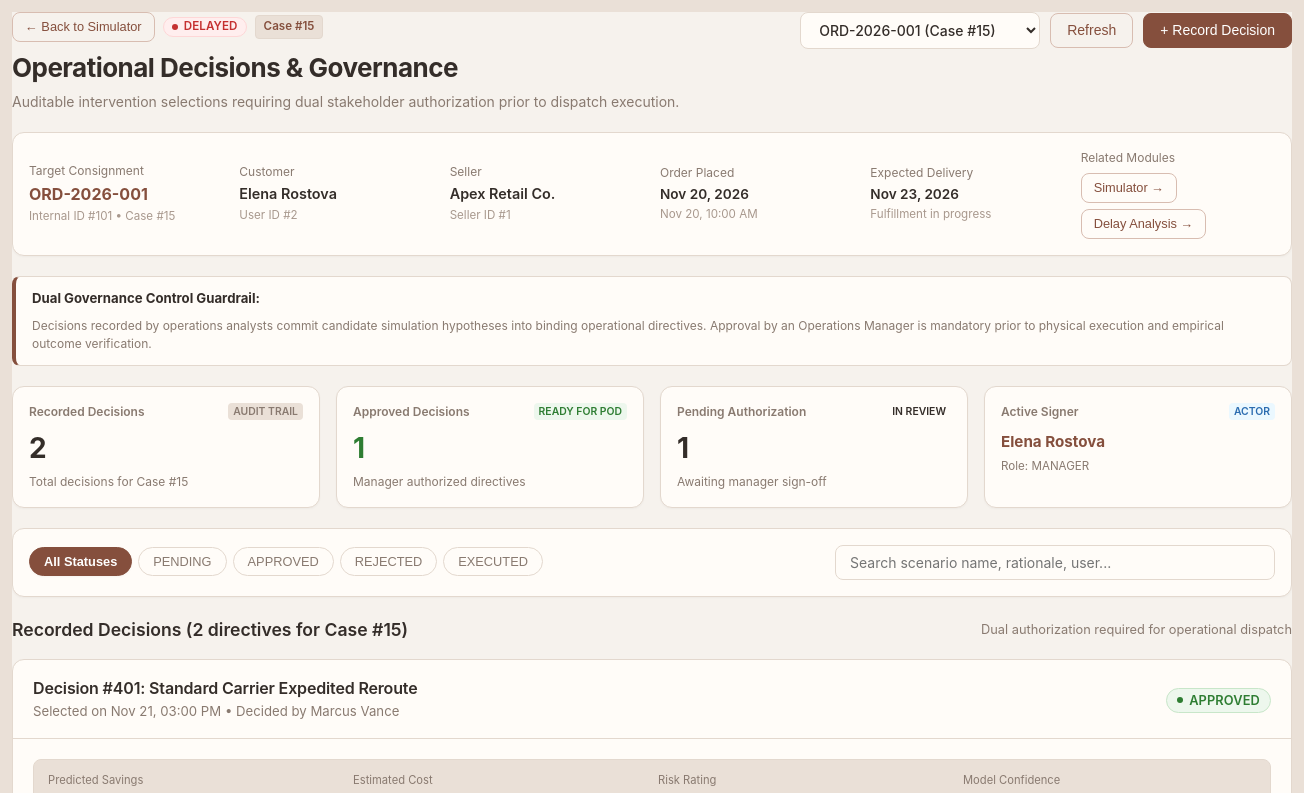
Test: DecisionsPage Component › filters decisions by status pills
Check: the heading "Decision #401: Standard Carrier Expedited Reroute" is shown, box [33,676,418,700]
# Click PENDING status pill
Click the button "PENDING": [182, 561] box [138,547,227,576]
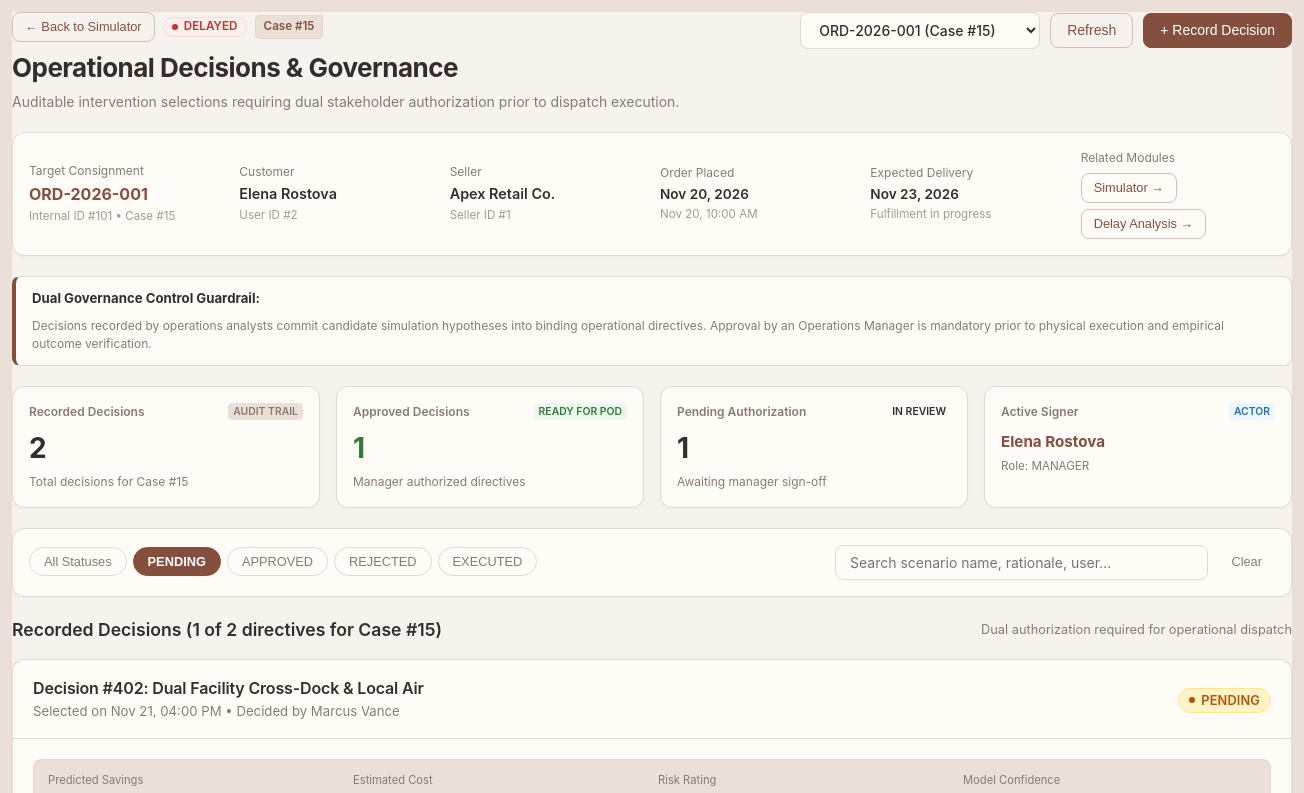
Check: the heading "Decision #402: Dual Facility Cross-Dock & Local Air" is shown, box [33,676,424,700]
Check: the heading "Decision #401:" is gone
# Click All Statuses pill to reset
Click the button "All Statuses": [78, 561] box [29,547,127,576]
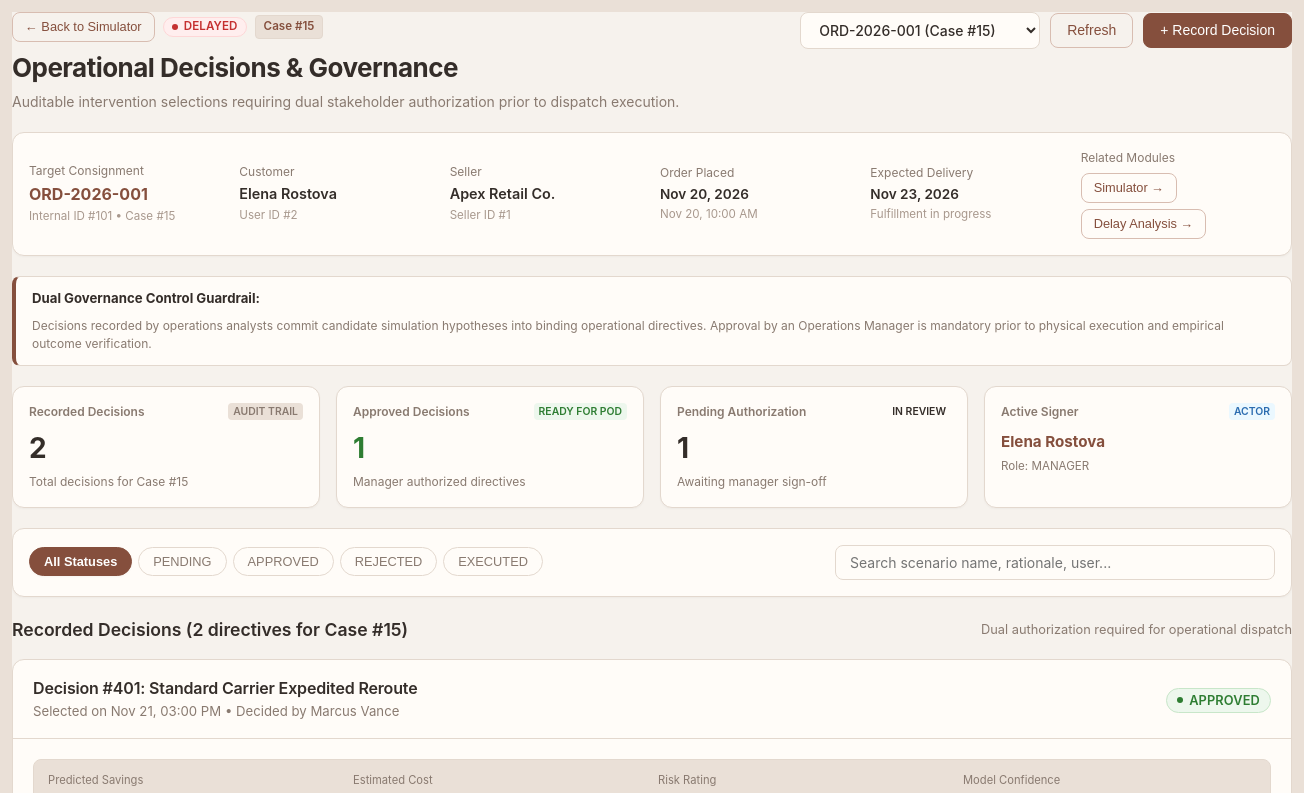
Check: the heading "Decision #401: Standard Carrier Expedited Reroute" is shown, box [33,676,418,700]
